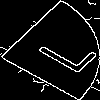L: (24, 25, 100, 75)
